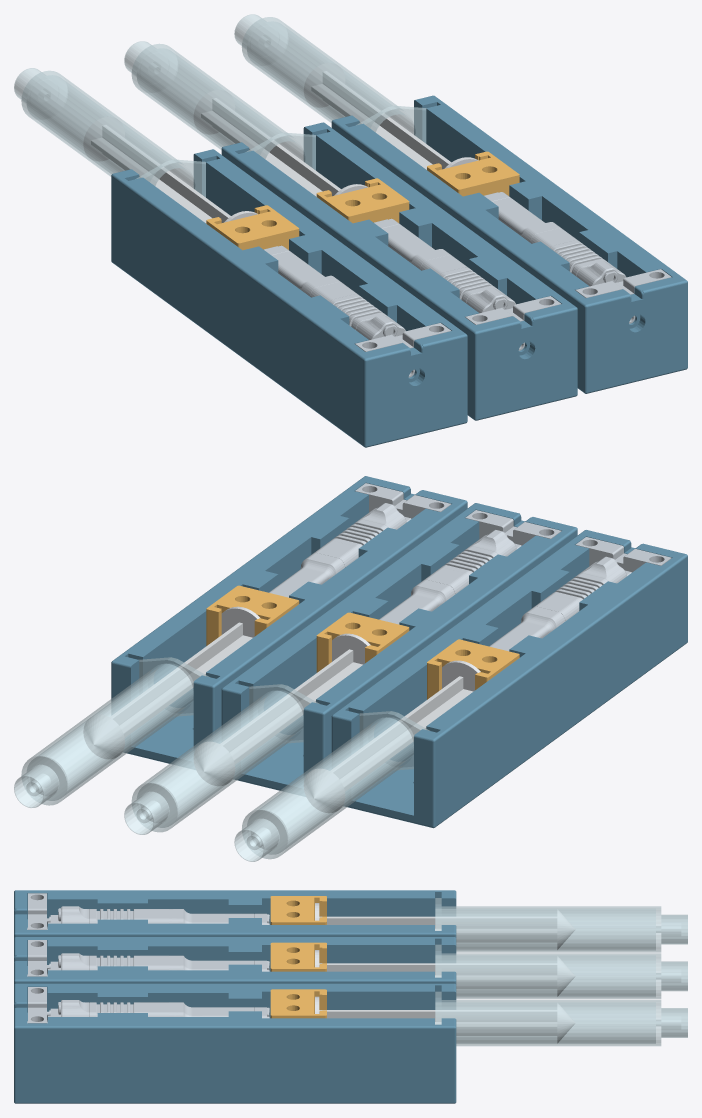
File: Triple_Cylinder_Syringes_V3.glb
3 renders of one model, top to bottom at view 1: azimuth 30°, elevation 25°; view 2: azimuth 150°, elevation 25°; view 3: azimuth 270°, elevation 25°, orthographic. The views are drawn at different scales.
Visible parts, largest first — view 1: cylinder_BD302135_16mm_V3_4, cylinder_BD302135_16mm_V3_6, cylinder_BD302135_16mm_V3_5, BD302135_REFERENCE_Barrel_16mm_V3_17, BD302135_REFERENCE_Barrel_16mm_V3_11, BD302135_REFERENCE_Barrel_16mm_V3_14, BD302135_REFERENCE_Plunger_16mm_V3_12, BD302135_REFERENCE_Plunger_16mm_V3_15, BD302135_REFERENCE_Plunger_16mm_V3_18, LAF16_Retracted_25, LAF16_Retracted_19, LAF16_Retracted_22 (+6 smaller); view 2: cylinder_BD302135_16mm_V3_4, cylinder_BD302135_16mm_V3_5, cylinder_BD302135_16mm_V3_6, BD302135_REFERENCE_Barrel_16mm_V3_14, BD302135_REFERENCE_Barrel_16mm_V3_17, BD302135_REFERENCE_Barrel_16mm_V3_11, BD302135_REFERENCE_Plunger_16mm_V3_18, BD302135_REFERENCE_Plunger_16mm_V3_15, BD302135_REFERENCE_Plunger_16mm_V3_12, LAF16_Retracted_19, LAF16_Retracted_25, LAF16_Retracted_22 (+6 smaller); view 3: cylinder_BD302135_16mm_V3_6, cylinder_BD302135_16mm_V3_5, cylinder_BD302135_16mm_V3_4, BD302135_REFERENCE_Barrel_16mm_V3_14, BD302135_REFERENCE_Barrel_16mm_V3_11, BD302135_REFERENCE_Barrel_16mm_V3_17, BD302135_REFERENCE_Plunger_16mm_V3_15, BD302135_REFERENCE_Plunger_16mm_V3_18, BD302135_REFERENCE_Plunger_16mm_V3_12, LAF16_Retracted_22, LAF16_Retracted_19, LAF16_Retracted_25 (+6 smaller).
Part boxes in pixels (<box>): cylinder_BD302135_16mm_V3_4: <box>111,149,467,447</box>; cylinder_BD302135_16mm_V3_6: <box>331,95,687,393</box>; cylinder_BD302135_16mm_V3_5: <box>221,122,577,420</box>; BD302135_REFERENCE_Barrel_16mm_V3_17: <box>234,14,426,143</box>; BD302135_REFERENCE_Barrel_16mm_V3_11: <box>14,68,205,197</box>; BD302135_REFERENCE_Barrel_16mm_V3_14: <box>124,41,315,170</box>; BD302135_REFERENCE_Plunger_16mm_V3_12: <box>83,116,257,223</box>; BD302135_REFERENCE_Plunger_16mm_V3_15: <box>193,90,367,196</box>; BD302135_REFERENCE_Plunger_16mm_V3_18: <box>303,63,478,169</box>; LAF16_Retracted_25: <box>484,192,635,323</box>; LAF16_Retracted_19: <box>263,245,414,377</box>; LAF16_Retracted_22: <box>374,218,524,350</box>; cylinder_BD302135_16mm_V3_4: <box>331,530,687,828</box>; cylinder_BD302135_16mm_V3_5: <box>221,503,577,791</box>; cylinder_BD302135_16mm_V3_6: <box>111,476,467,764</box>; BD302135_REFERENCE_Barrel_16mm_V3_14: <box>124,684,319,834</box>; BD302135_REFERENCE_Barrel_16mm_V3_17: <box>14,657,208,807</box>; BD302135_REFERENCE_Barrel_16mm_V3_11: <box>234,711,429,861</box>; BD302135_REFERENCE_Plunger_16mm_V3_18: <box>83,606,260,759</box>; BD302135_REFERENCE_Plunger_16mm_V3_15: <box>194,633,370,785</box>; BD302135_REFERENCE_Plunger_16mm_V3_12: <box>304,660,480,812</box>; LAF16_Retracted_19: <box>489,556,633,651</box>; LAF16_Retracted_25: <box>269,503,412,597</box>; LAF16_Retracted_22: <box>379,530,522,624</box>; cylinder_BD302135_16mm_V3_6: <box>14,983,456,1103</box>; cylinder_BD302135_16mm_V3_5: <box>14,937,456,984</box>; cylinder_BD302135_16mm_V3_4: <box>14,890,456,937</box>; BD302135_REFERENCE_Barrel_16mm_V3_14: <box>435,944,687,999</box>; BD302135_REFERENCE_Barrel_16mm_V3_11: <box>435,898,687,952</box>; BD302135_REFERENCE_Barrel_16mm_V3_17: <box>435,991,687,1046</box>; BD302135_REFERENCE_Plunger_16mm_V3_15: <box>315,950,575,996</box>; BD302135_REFERENCE_Plunger_16mm_V3_18: <box>315,996,574,1042</box>; BD302135_REFERENCE_Plunger_16mm_V3_12: <box>315,903,575,949</box>; LAF16_Retracted_22: <box>27,953,269,976</box>; LAF16_Retracted_19: <box>27,906,269,929</box>; LAF16_Retracted_25: <box>27,1000,269,1023</box>.
Size of the model in its own units: 0.097 by 0.0274 by 0.2011.
